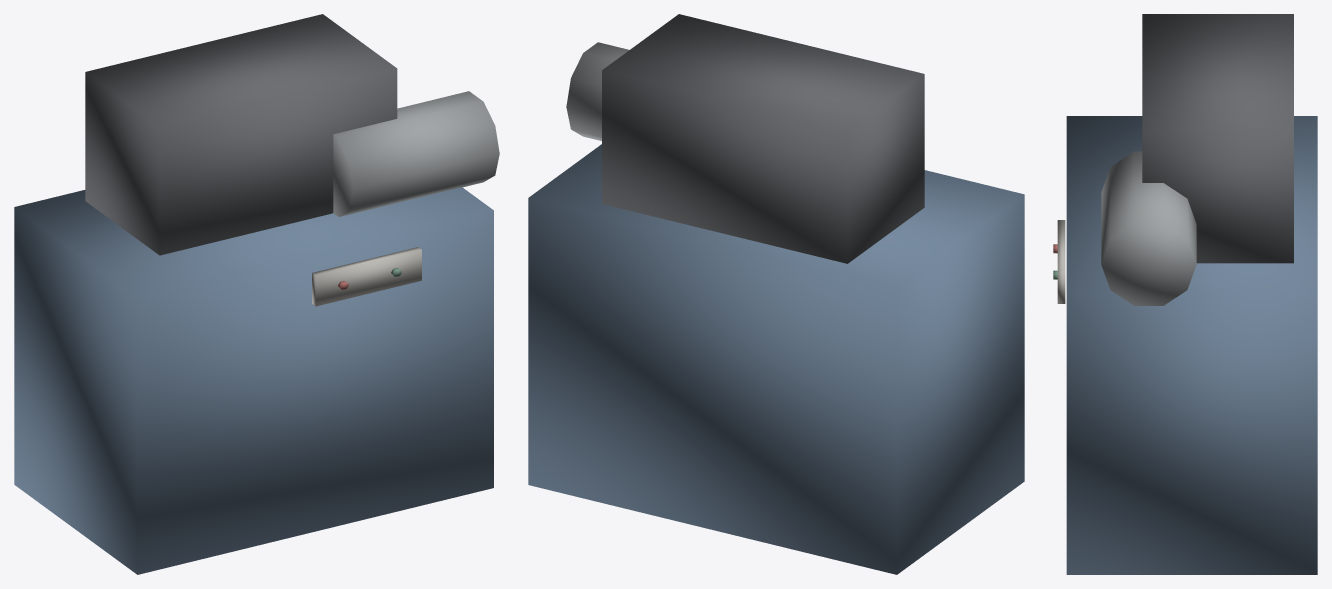
File: library_cart__wide.glb
3 renders of one model, left to right at view 1: azimuth 30°, elevation 25°; view 2: azimuth 150°, elevation 25°; view 3: azimuth 270°, elevation 25°, orthographic. The views are drawn at different scales.
Visible parts, largest first — view 1: world; view 2: world; view 3: world.
Boxes of the visible parts, left/top/right/bottom form: world: left=14, top=14, right=499, bottom=574; world: left=528, top=14, right=1024, bottom=574; world: left=1053, top=14, right=1317, bottom=574.
Size of the model in its own units: 1.03 by 1.05 by 0.611.
